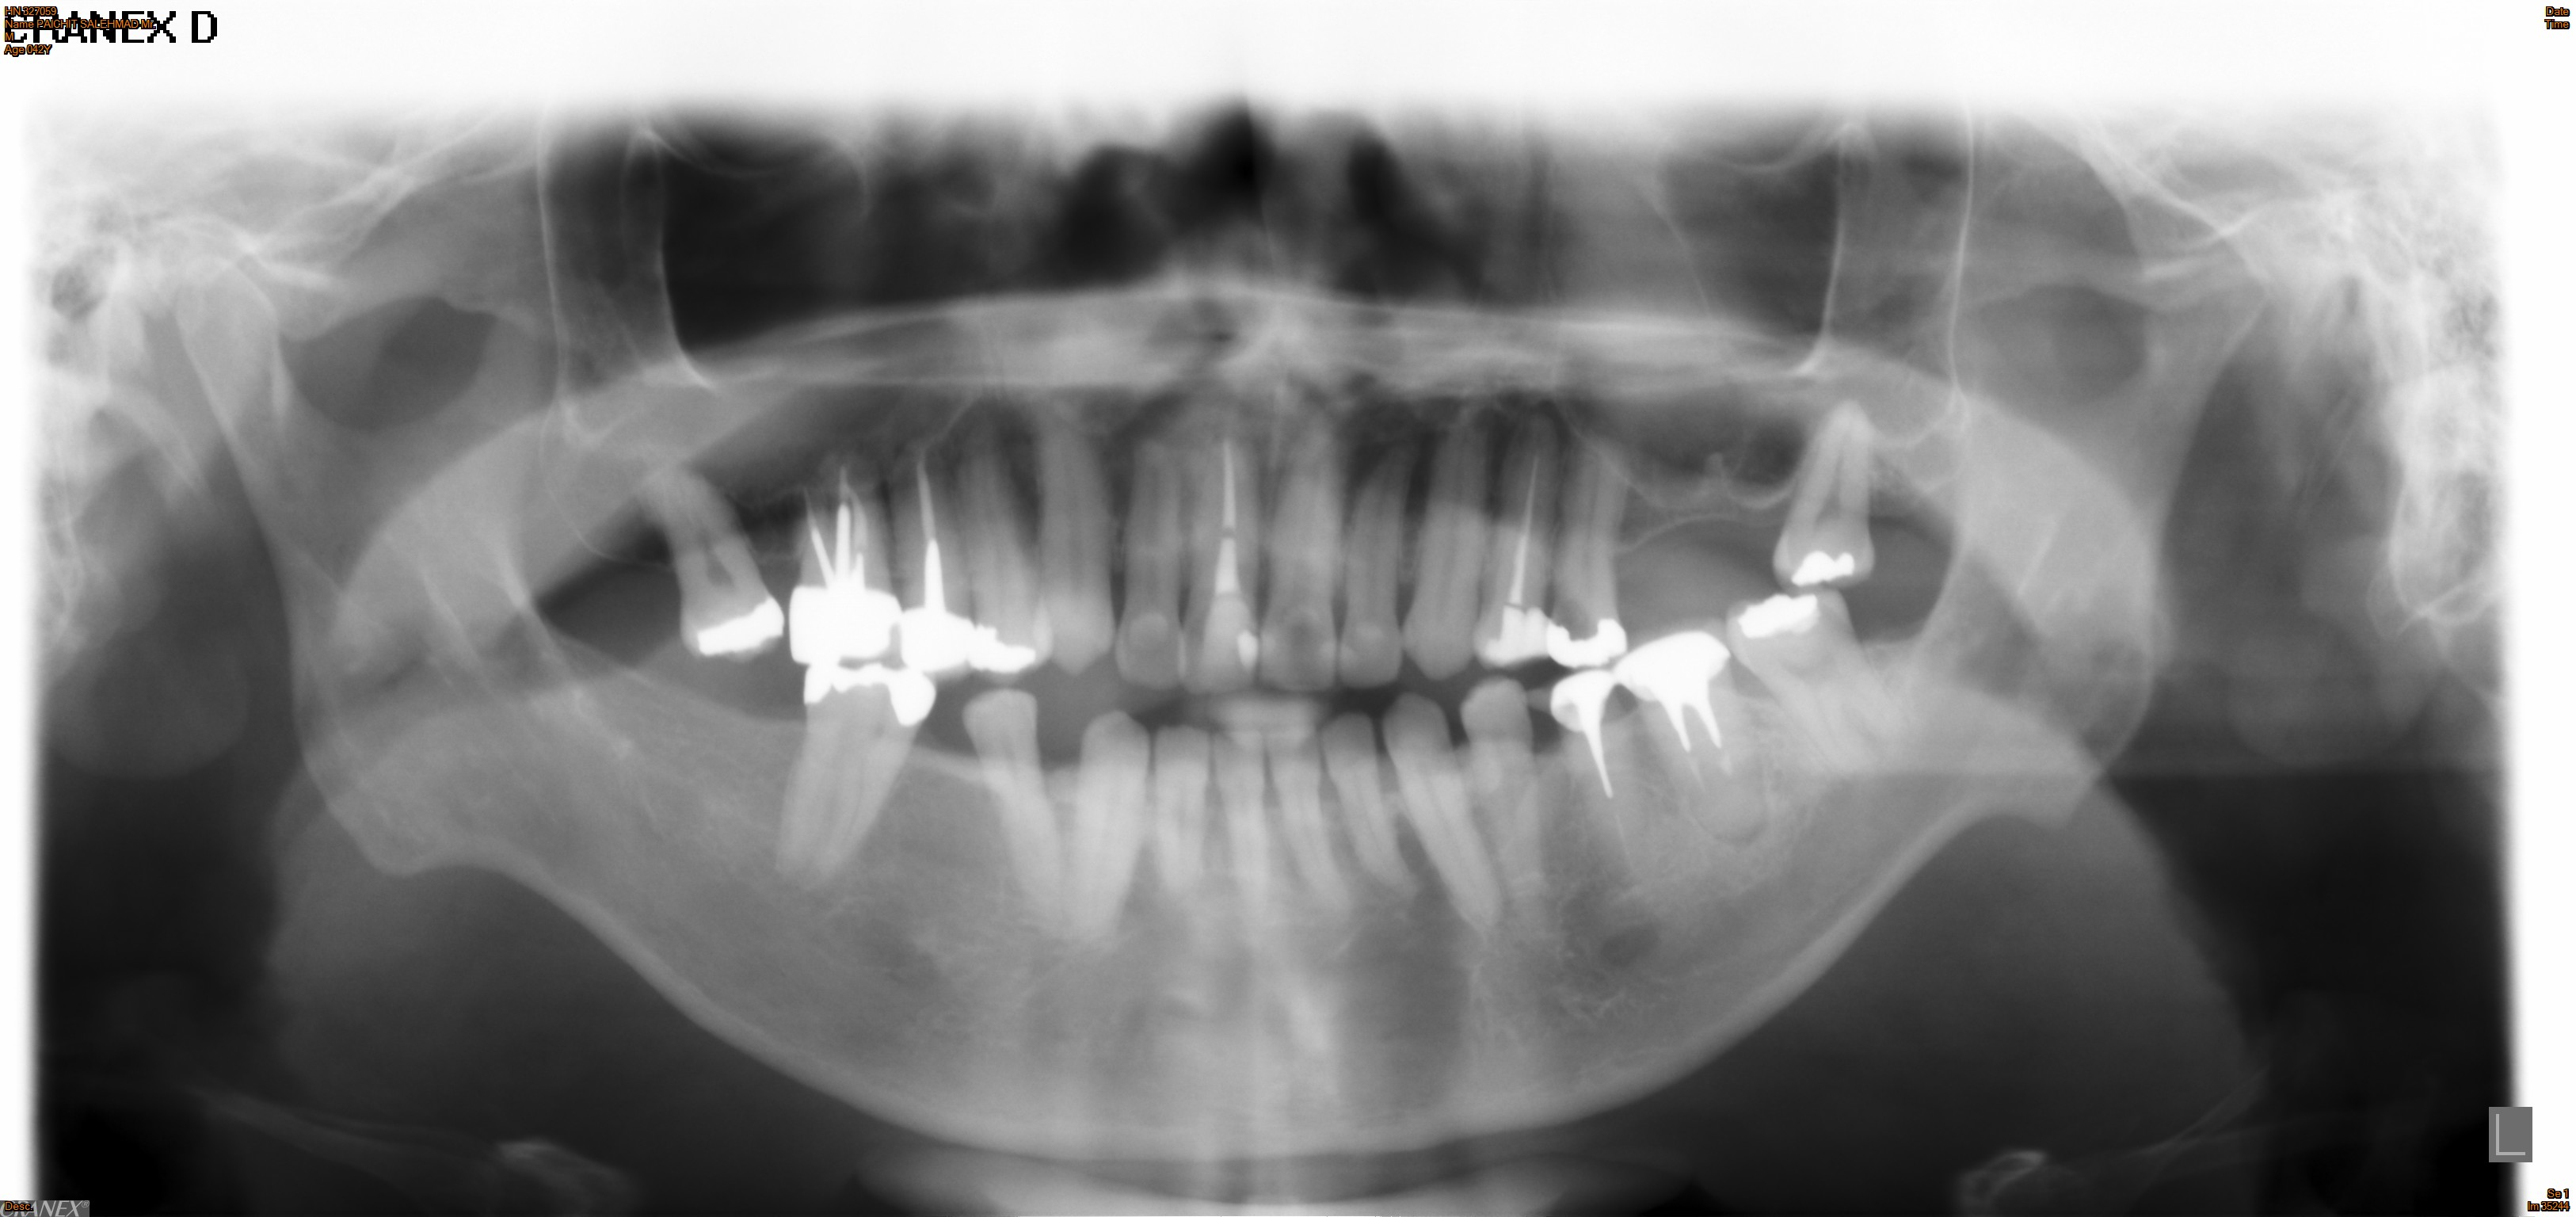periodontitis: (1718, 583, 1929, 787), (777, 437, 912, 680), (1533, 416, 1641, 687)
